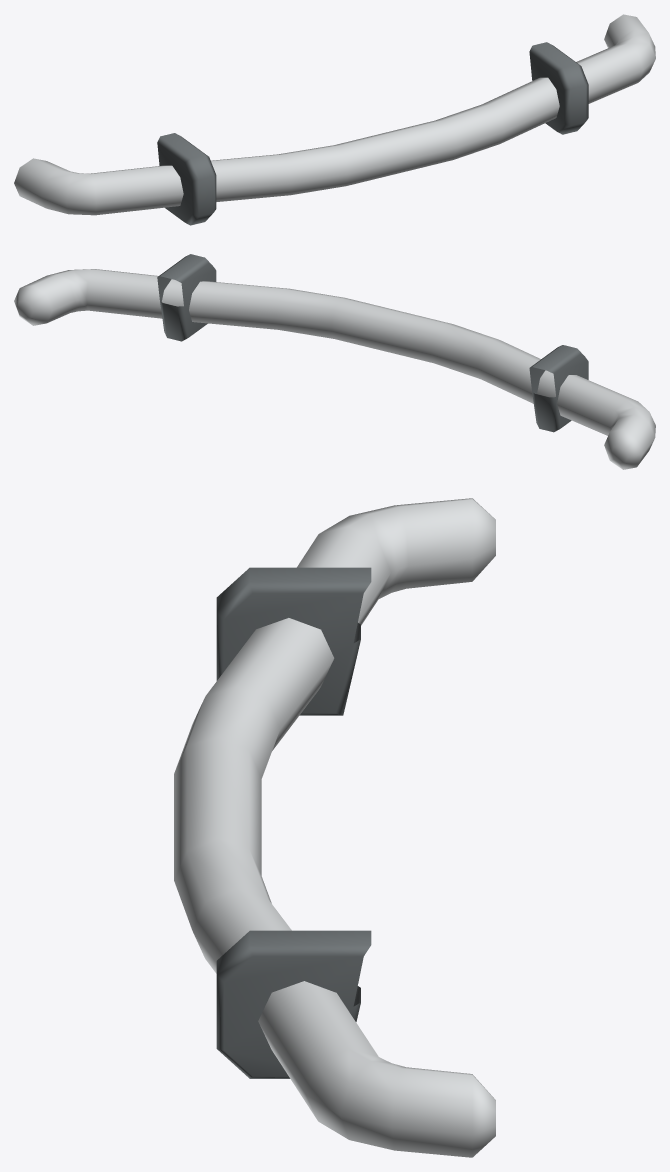
The model's file is Car_03_FrontBumper_Simple.fbx.
The picture shows the model from 3 angles, top to bottom: view 1: azimuth 30°, elevation 25°; view 2: azimuth 150°, elevation 25°; view 3: azimuth 270°, elevation 25°; orthographic projection. The views are drawn at different scales.
Visible parts, largest first — view 1: Car_03_FrontBumper_Simple; view 2: Car_03_FrontBumper_Simple; view 3: Car_03_FrontBumper_Simple.
Part boxes in pixels (<box>): Car_03_FrontBumper_Simple: <box>14,14,655,225</box>; Car_03_FrontBumper_Simple: <box>14,254,655,469</box>; Car_03_FrontBumper_Simple: <box>174,498,495,1157</box>.
Bounding box in the file's own units: 228 × 50.43 × 23.14.
